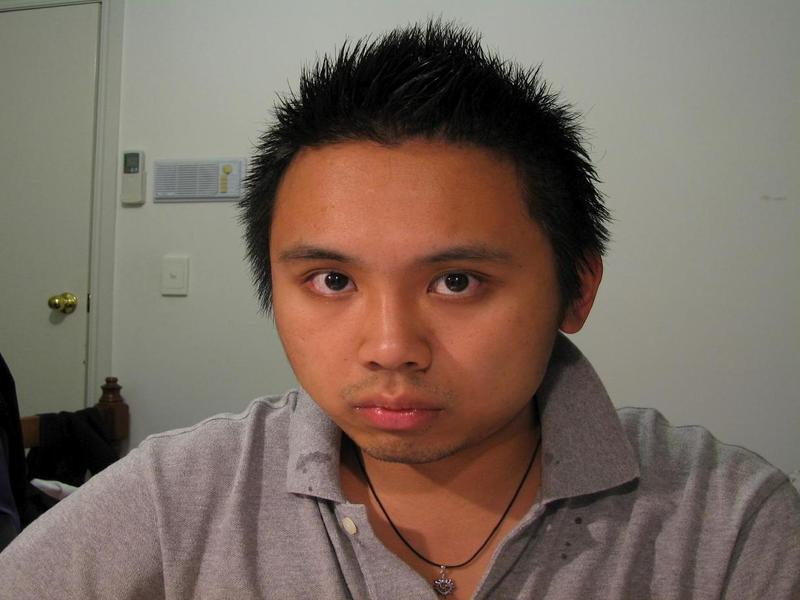person: (1, 20, 792, 600)
